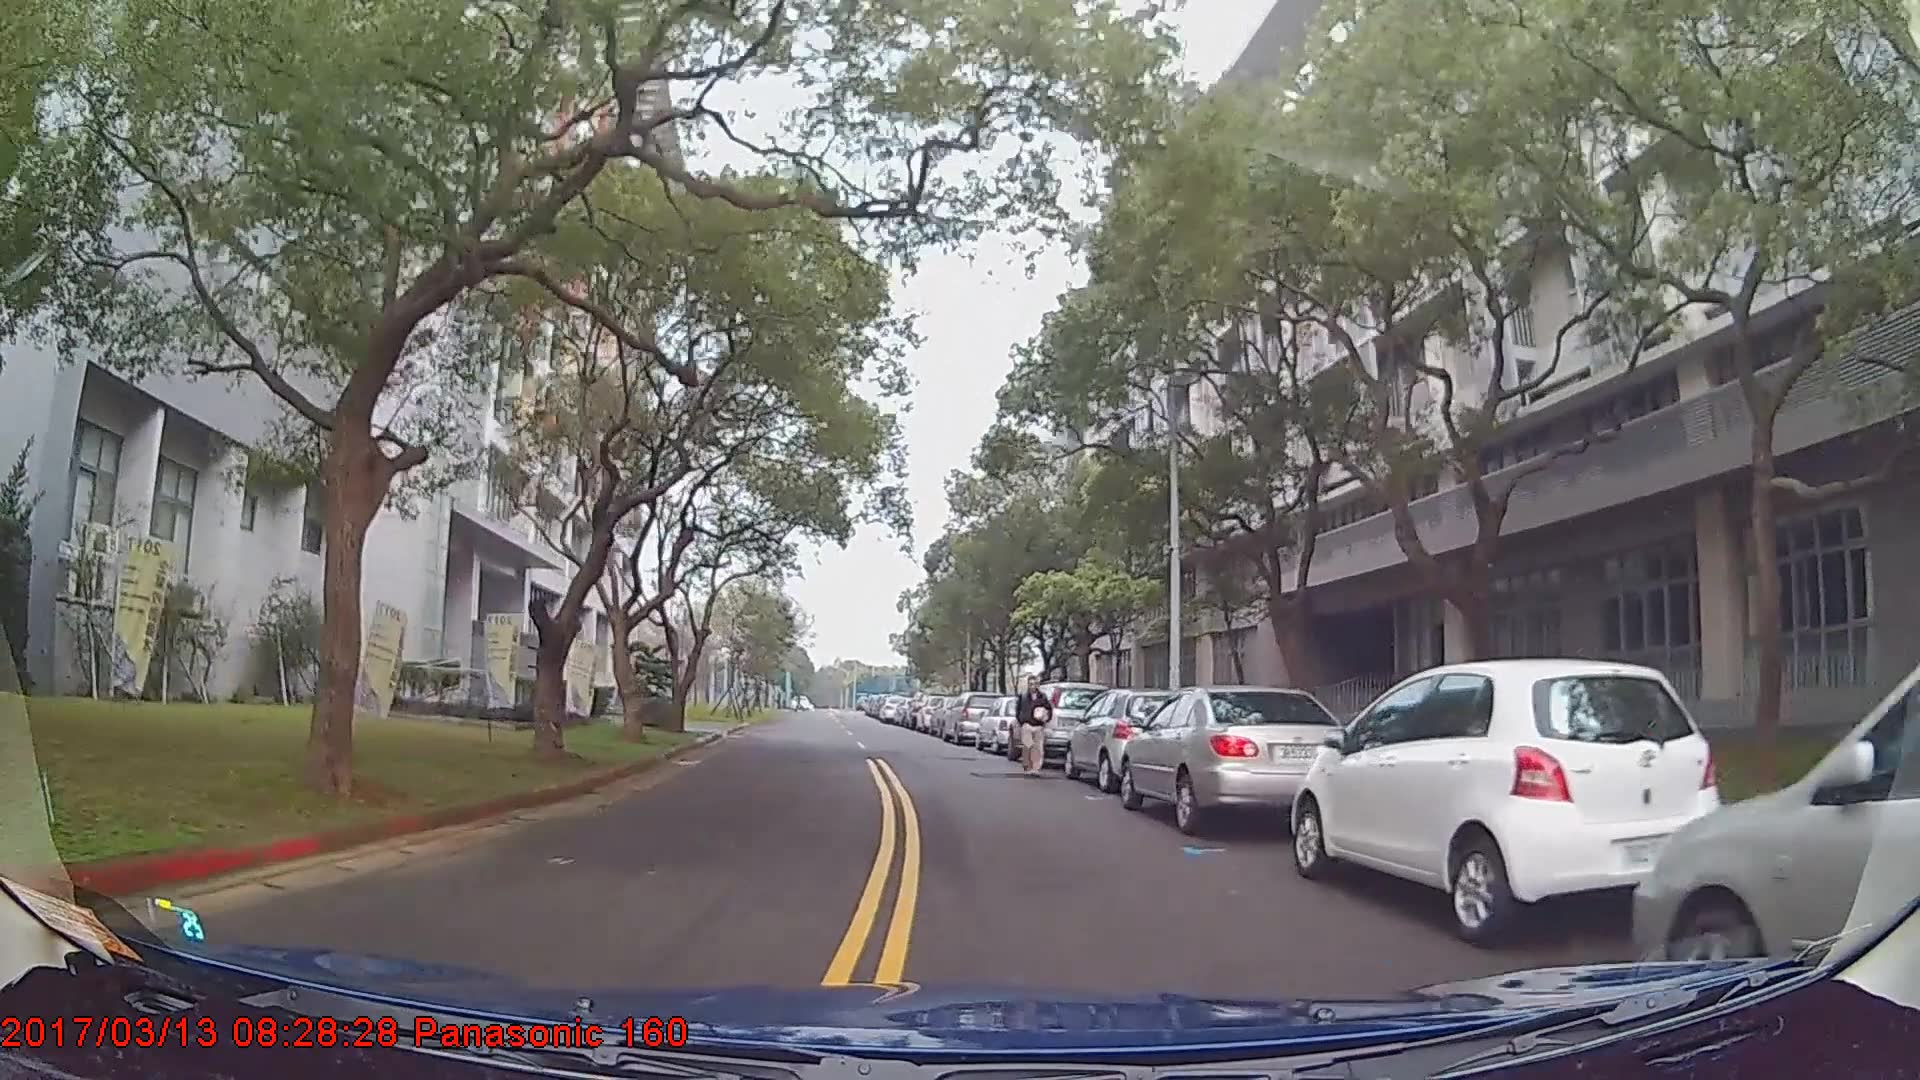pedestrian: (1018, 676, 1055, 780)
vehicle: (1293, 655, 1728, 948), (1629, 669, 1920, 1023), (1118, 683, 1355, 833), (1064, 686, 1200, 792), (1007, 680, 1113, 770), (975, 692, 1043, 755), (942, 691, 1007, 746)
